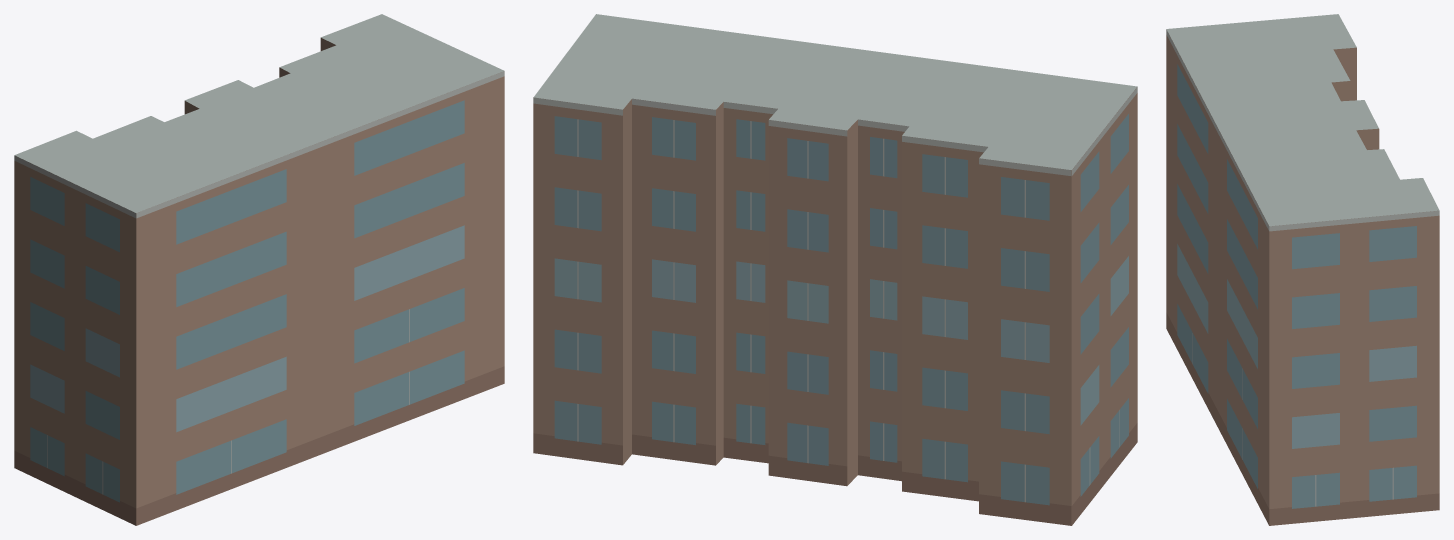
Rendered from survey-upis-32598798.glb.
3 renders of one model, left to right at view 1: azimuth 30°, elevation 25°; view 2: azimuth 150°, elevation 25°; view 3: azimuth 270°, elevation 25°, orthographic. The views are drawn at different scales.
Parts seen in each view (by area): view 1: survey-upis-32598798.tmp; view 2: survey-upis-32598798.tmp; view 3: survey-upis-32598798.tmp.
Boxes of the visible parts, x1,y1,x2,y2 form: survey-upis-32598798.tmp: [14, 14, 504, 525]; survey-upis-32598798.tmp: [533, 14, 1137, 525]; survey-upis-32598798.tmp: [1166, 14, 1439, 525].
Bounding box in the file's own units: 21.75 × 14.3 × 11.83.
